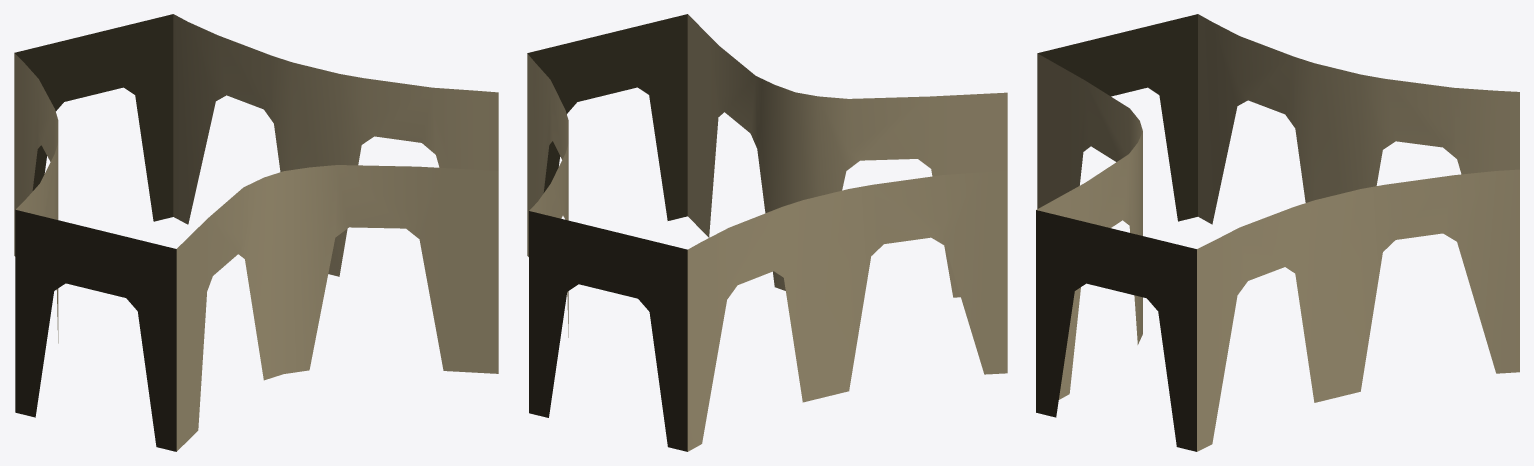
Rendered from Road_Zipper_Bridge.fbx.
3 views of the same model, side by side, from view 1: azimuth 30°, elevation 25°; view 2: azimuth 150°, elevation 25°; view 3: azimuth 270°, elevation 25° (orthographic).
Parts seen in each view (by area): view 1: Road_Zipper_Bridge; view 2: Road_Zipper_Bridge; view 3: Road_Zipper_Bridge.
Part boxes in pixels (left/top/right/bottom): Road_Zipper_Bridge: left=14, top=14, right=498, bottom=451; Road_Zipper_Bridge: left=527, top=14, right=1007, bottom=451; Road_Zipper_Bridge: left=1036, top=14, right=1519, bottom=451.
Bounding box in the file's own units: 0.8989 × 0.7813 × 0.3613.
